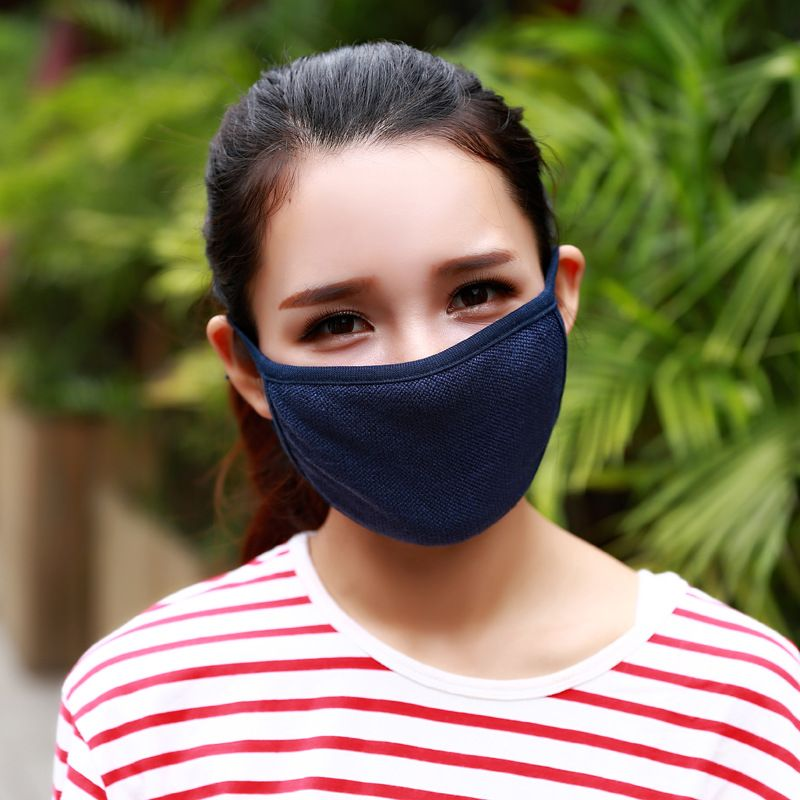face_mask: (261, 136, 554, 531)
